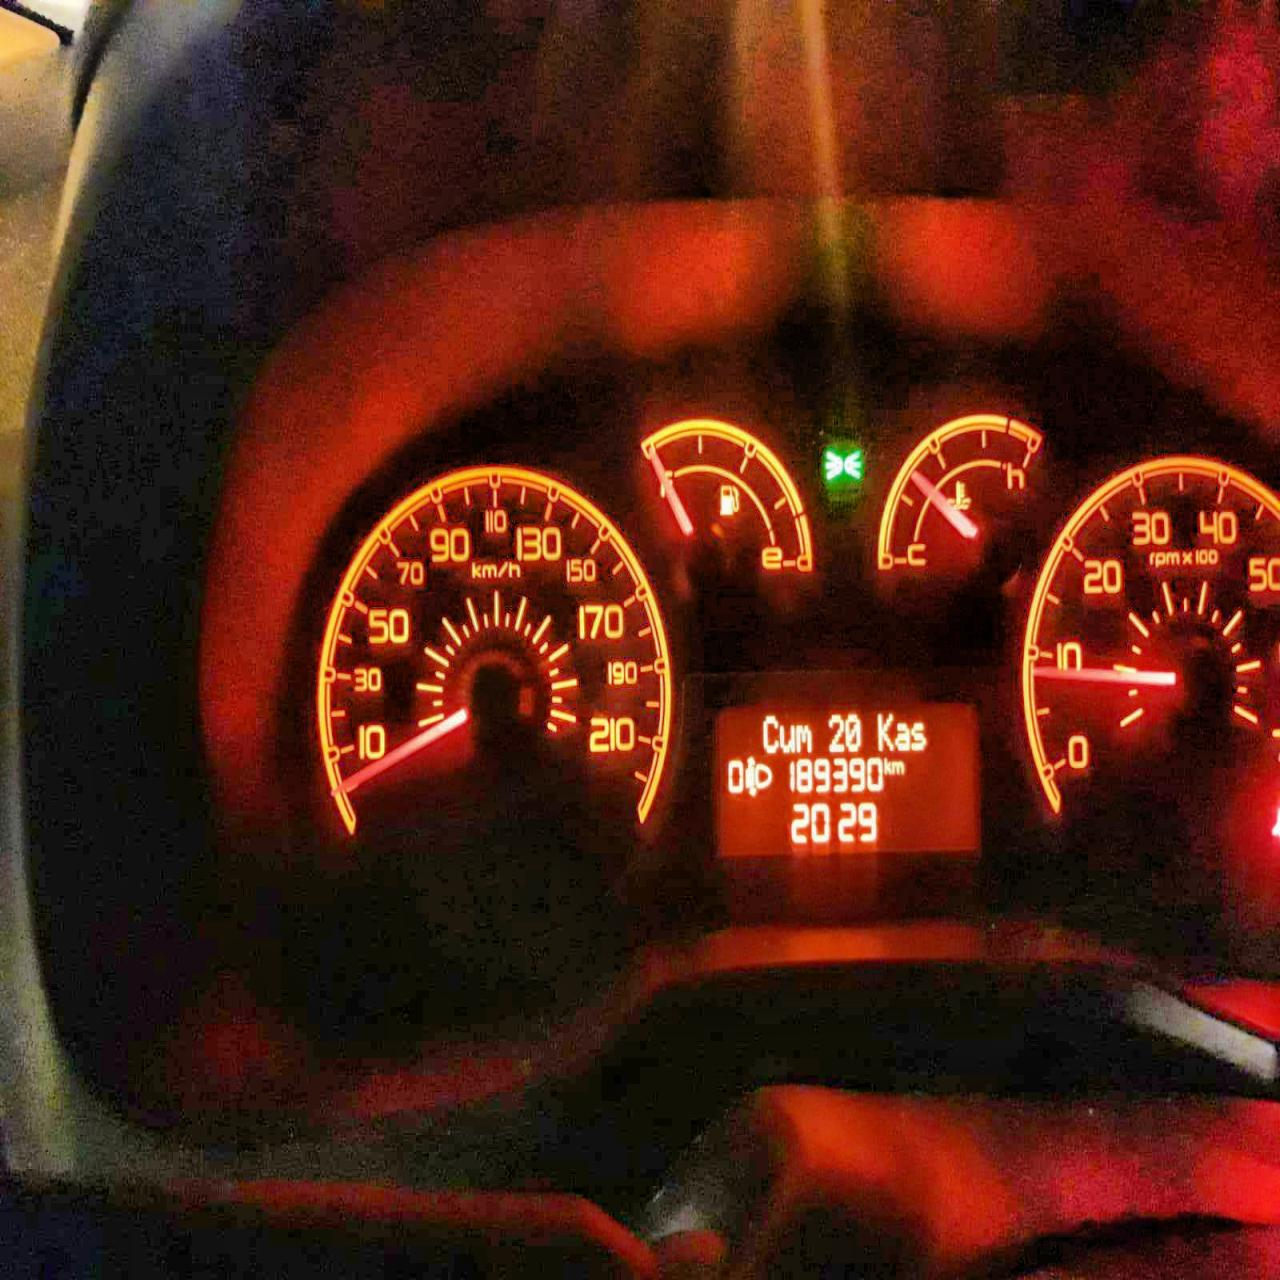0: (810, 799, 831, 845), (844, 712, 862, 751), (866, 754, 884, 792), (727, 757, 743, 795)
1: (787, 758, 795, 792)
2: (836, 801, 857, 843), (790, 801, 809, 846), (826, 713, 844, 753)
3: (830, 755, 847, 794)
8: (795, 756, 812, 794)
9: (857, 801, 878, 844), (812, 756, 830, 795), (849, 755, 866, 792)
X: (761, 713, 779, 755), (876, 710, 894, 751), (908, 720, 928, 753), (794, 723, 812, 753), (778, 723, 795, 755), (893, 721, 910, 751), (891, 760, 906, 776), (883, 755, 891, 776)
odometer: (707, 695, 987, 869)
